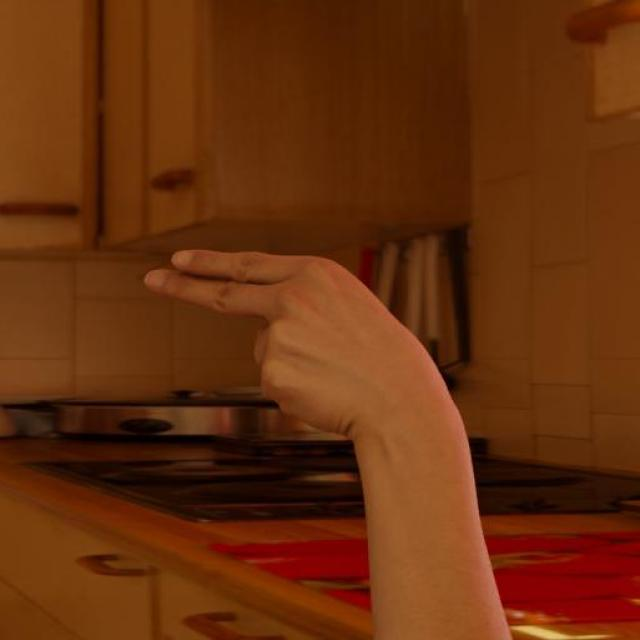H: (140, 240, 471, 432)
